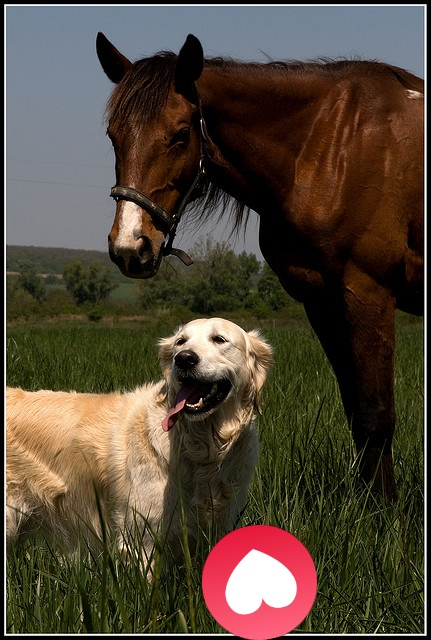love: (202, 525, 317, 640)
